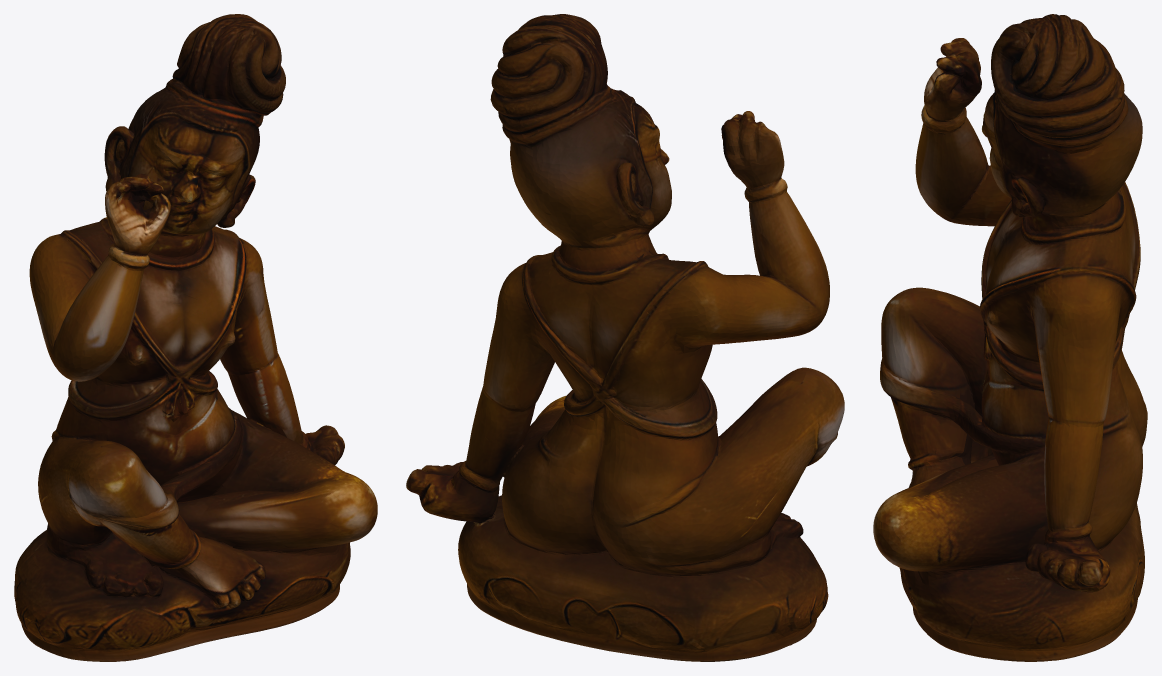
3 views of the same model, side by side, from view 1: azimuth 30°, elevation 25°; view 2: azimuth 150°, elevation 25°; view 3: azimuth 270°, elevation 25° (orthographic). The views are drawn at different scales.
Visible parts, largest first — view 1: textured_mesh; view 2: textured_mesh; view 3: textured_mesh.
Boxes of the visible parts, <box> form: textured_mesh: <box>14,14,377,661</box>; textured_mesh: <box>406,14,844,661</box>; textured_mesh: <box>873,14,1147,661</box>.
Bounding box in the file's own units: 1.32 × 1.99 × 0.8252.
1 material, 1 textured.
